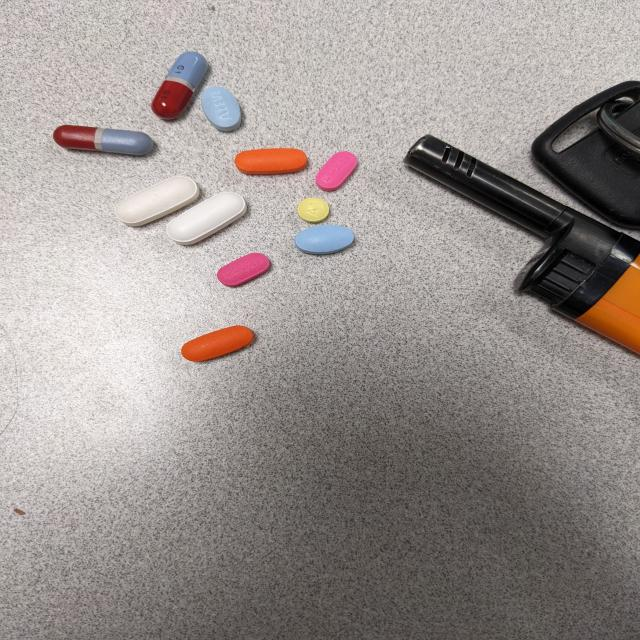non-organic waste: (165, 191, 248, 246), (113, 175, 200, 227), (150, 50, 208, 121), (53, 124, 154, 156), (180, 325, 255, 362), (234, 147, 308, 175), (294, 223, 356, 256), (200, 86, 242, 132), (216, 252, 271, 287), (315, 150, 358, 192), (296, 197, 330, 223)
